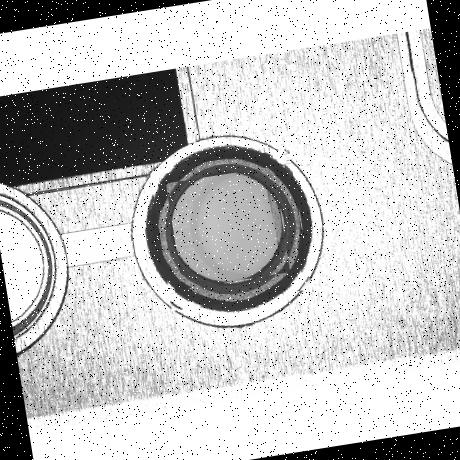Hole: (134, 133, 323, 323)
Hole2: (150, 149, 312, 311)
Hole3: (156, 154, 304, 304)
Hole4: (166, 166, 292, 290)
